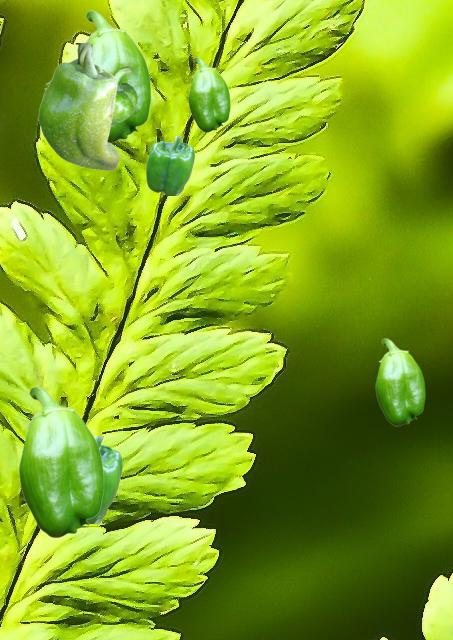bell_pepper: (18, 386, 103, 537), (38, 43, 118, 169), (84, 10, 150, 142), (375, 338, 424, 425), (188, 57, 229, 131), (88, 436, 121, 522), (146, 136, 193, 194), (102, 66, 136, 123)
